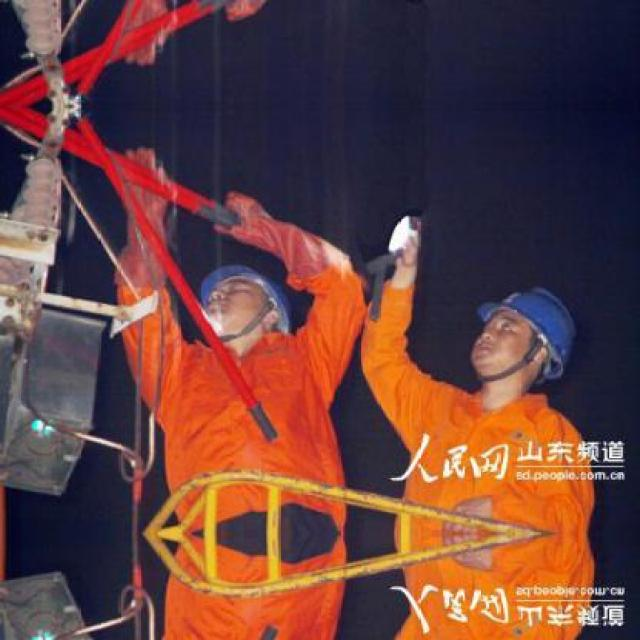helmet: (465, 276, 581, 401), (185, 260, 283, 355)
